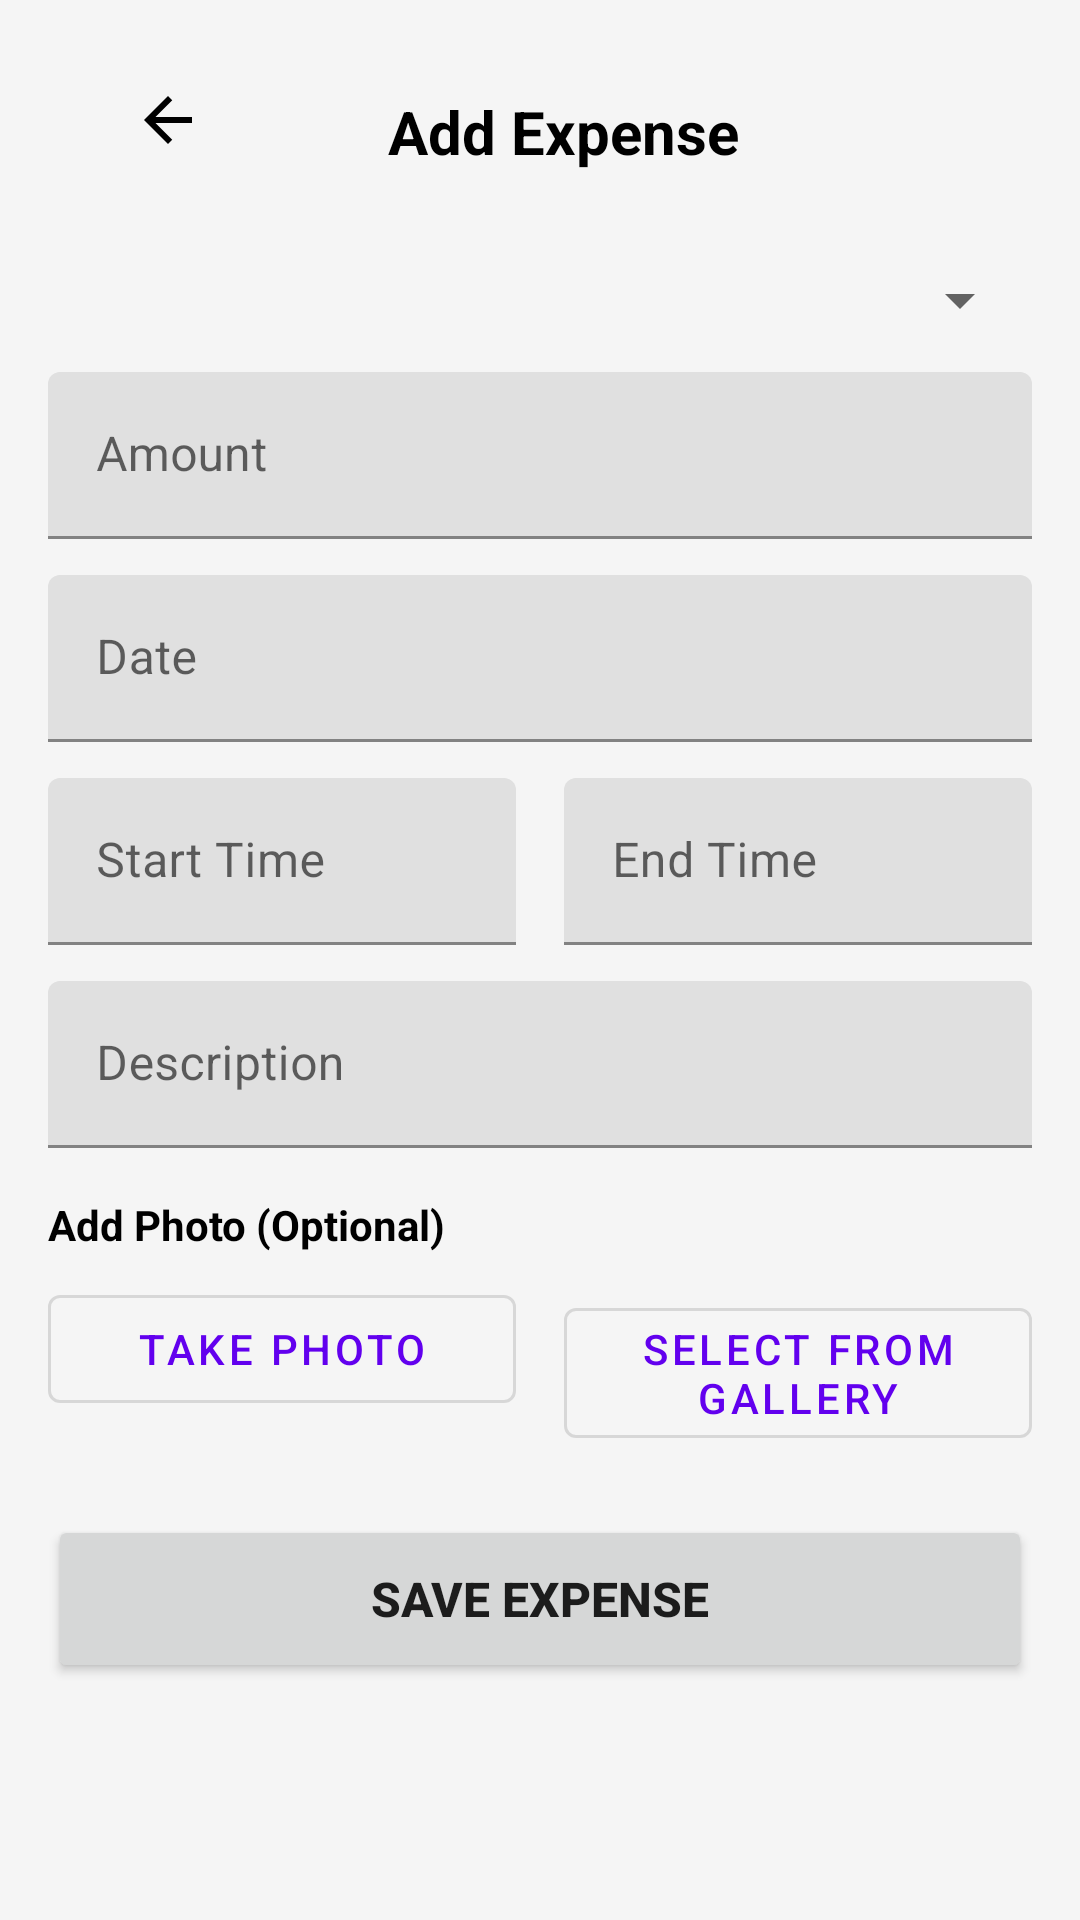

Icon click points for this 1080*1920 phone screenshot, format (x,y):
arrow back: (168,120)
